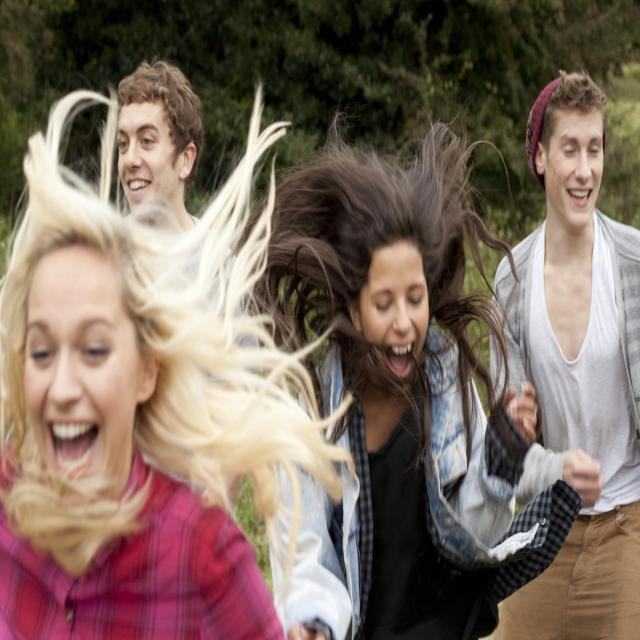sem_oculos: (21, 323, 166, 374), (114, 125, 200, 164), (534, 128, 610, 167), (350, 286, 440, 314)
